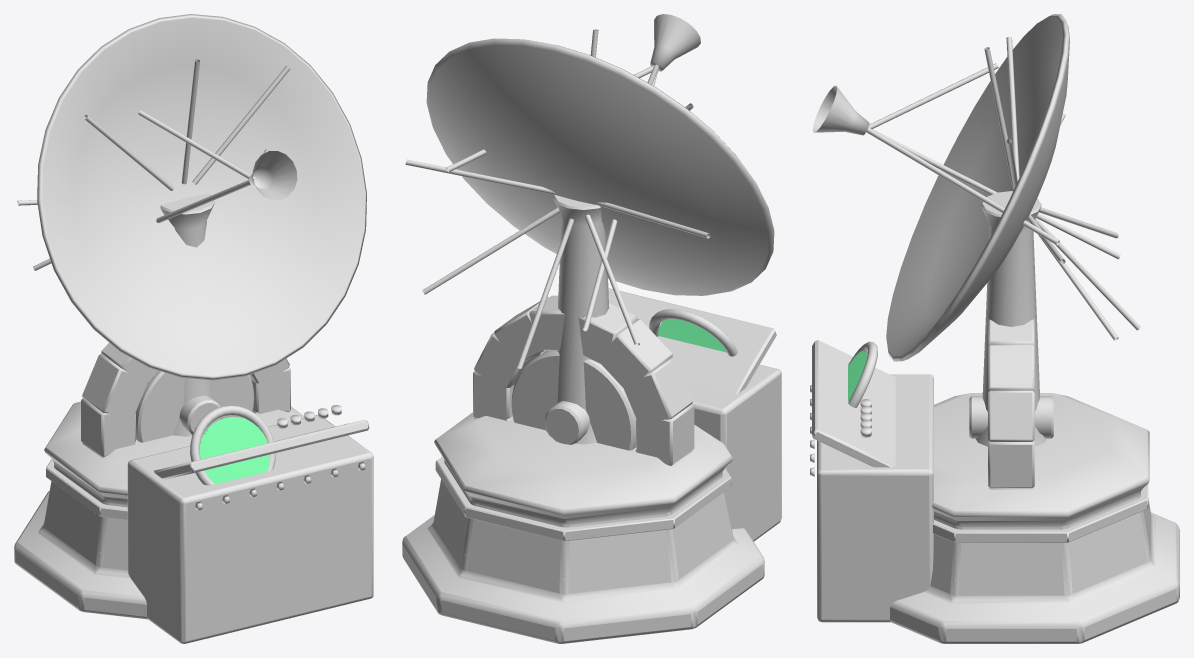
Rendered from prop_traffic_signal-tower.glb.
The picture shows the model from 3 angles, left to right: view 1: azimuth 30°, elevation 25°; view 2: azimuth 150°, elevation 25°; view 3: azimuth 270°, elevation 25°; orthographic projection. The views are drawn at different scales.
Visible parts, largest first — view 1: dish__brass_pipe, ground__iron_decay, ground__brass_pipe, dish__iron_decay, ground__trim_brass, ground__phosphor_dim, dish__trim_brass; view 2: ground__iron_decay, dish__brass_pipe, ground__brass_pipe, ground__trim_brass, dish__iron_decay, dish__trim_brass, ground__phosphor_dim; view 3: ground__iron_decay, dish__brass_pipe, ground__brass_pipe, dish__iron_decay, ground__trim_brass, dish__trim_brass, ground__phosphor_dim.
Boxes of the visible parts, bbox=[...] form: dish__brass_pipe: bbox=[37, 14, 366, 380]; ground__iron_decay: bbox=[14, 342, 373, 643]; ground__brass_pipe: bbox=[154, 193, 369, 479]; dish__iron_decay: bbox=[17, 59, 289, 270]; ground__trim_brass: bbox=[46, 405, 365, 553]; ground__phosphor_dim: bbox=[199, 417, 269, 484]; dish__trim_brass: bbox=[249, 151, 297, 199]; ground__iron_decay: bbox=[402, 295, 781, 643]; dish__brass_pipe: bbox=[426, 38, 774, 295]; ground__brass_pipe: bbox=[546, 195, 776, 444]; ground__trim_brass: bbox=[435, 309, 737, 579]; dish__iron_decay: bbox=[405, 29, 710, 369]; dish__trim_brass: bbox=[650, 14, 700, 71]; ground__phosphor_dim: bbox=[658, 319, 726, 352]; ground__iron_decay: bbox=[817, 318, 1179, 643]; dish__brass_pipe: bbox=[886, 14, 1069, 361]; ground__brass_pipe: bbox=[812, 191, 1046, 467]; dish__iron_decay: bbox=[866, 36, 1140, 340]; ground__trim_brass: bbox=[810, 341, 1148, 580]; dish__trim_brass: bbox=[812, 85, 869, 135]; ground__phosphor_dim: bbox=[848, 351, 867, 400].
Size of the model in its own units: 1.65 by 2.55 by 1.58.
